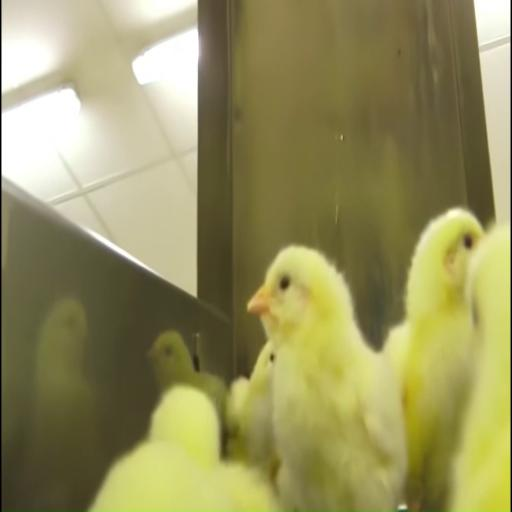chick: (248, 247, 406, 510), (384, 209, 483, 510), (91, 385, 277, 511), (91, 386, 235, 511), (452, 225, 510, 511), (27, 298, 102, 509), (149, 331, 227, 425), (227, 341, 277, 477), (149, 385, 220, 468), (214, 463, 280, 511), (226, 376, 249, 462)
